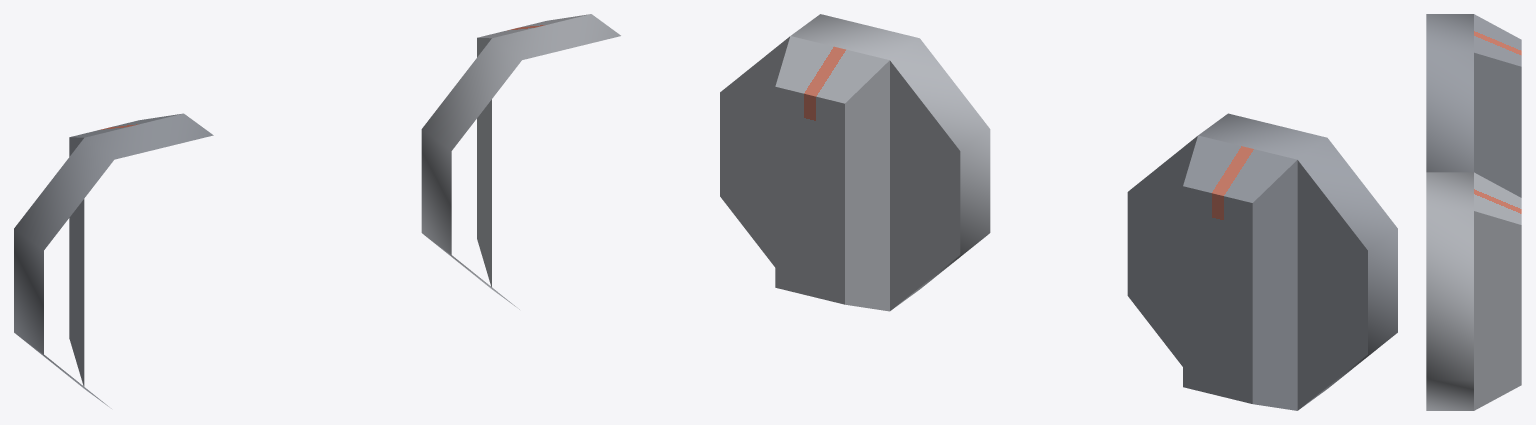
Rendered from kd_stage_135ded_4_84_exterior.glb.
The picture shows the model from 3 angles, left to right: view 1: azimuth 30°, elevation 25°; view 2: azimuth 150°, elevation 25°; view 3: azimuth 270°, elevation 25°; orthographic projection. The views are drawn at different scales.
Parts seen in each view (by area): view 1: kd_stage_135ded_4_84_exterior; view 2: kd_stage_135ded_4_84_exterior; view 3: kd_stage_135ded_4_84_exterior.
Boxes of the visible parts, box(x1,y1,x2,y2) form: kd_stage_135ded_4_84_exterior: box(14, 14, 620, 408); kd_stage_135ded_4_84_exterior: box(720, 14, 1397, 410); kd_stage_135ded_4_84_exterior: box(1426, 14, 1521, 410).
Size of the model in its own units: 0.2492 by 0.0924 by 0.04.
Materials: 1 (1 with a texture image).
